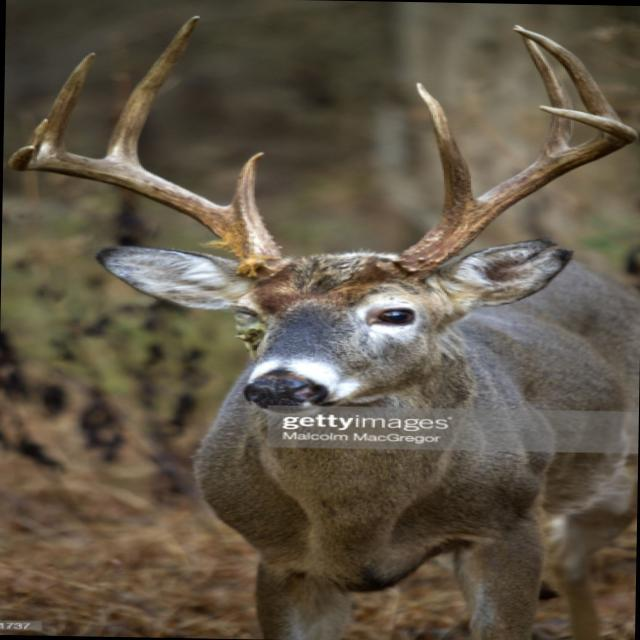L-F: (394, 103, 639, 274)
L-G1: (412, 80, 477, 215)
R-F: (23, 50, 284, 278)
R-G1: (226, 150, 267, 223)
R-G2: (102, 14, 202, 169)
